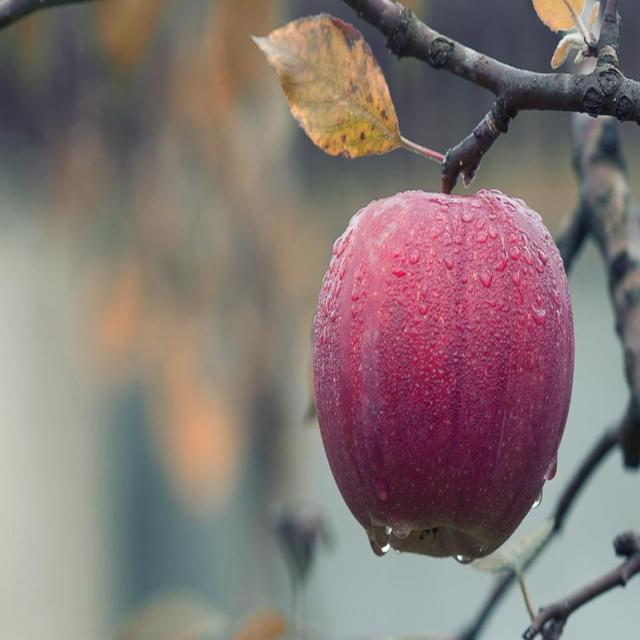apple: (313, 191, 576, 559)
